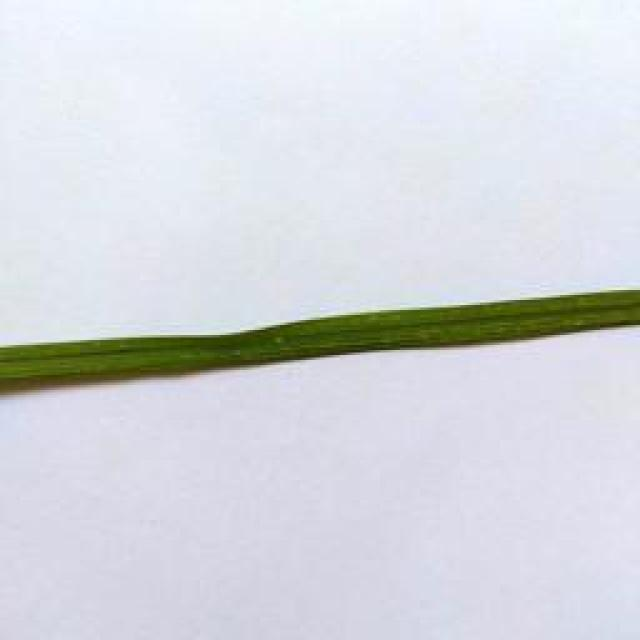Healthy-Plant: (0, 272, 640, 400)
